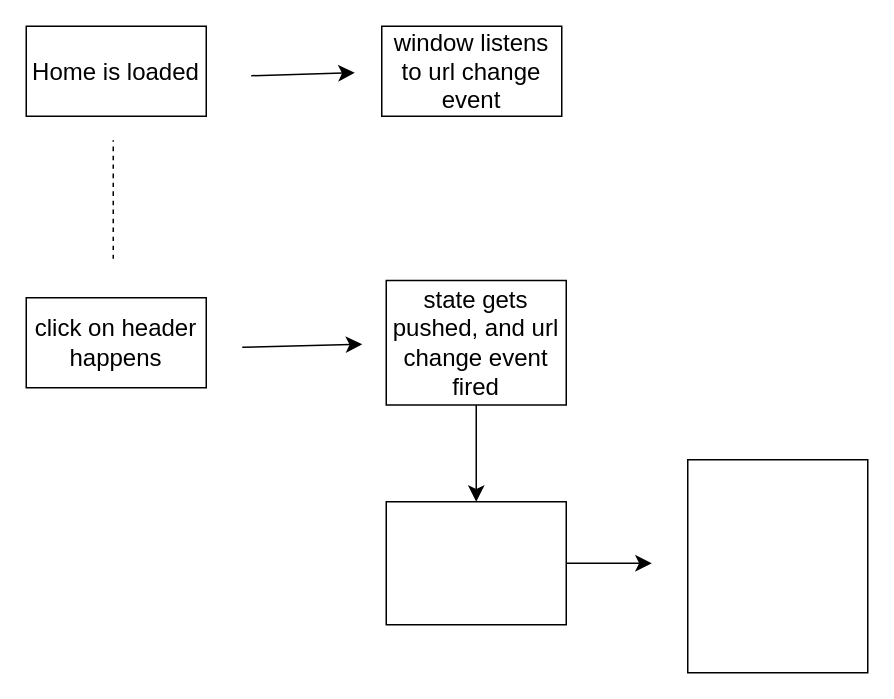
Some shapes in this 894 by 699 pixel diagram are drawn without their labels. The centre of each missing label's shape, as x and y in pixels:
each function replaces the html, readds heazder listeneres, add obervings: (x=777, y=565)
window reads pathname and fires according func: (x=475, y=562)
